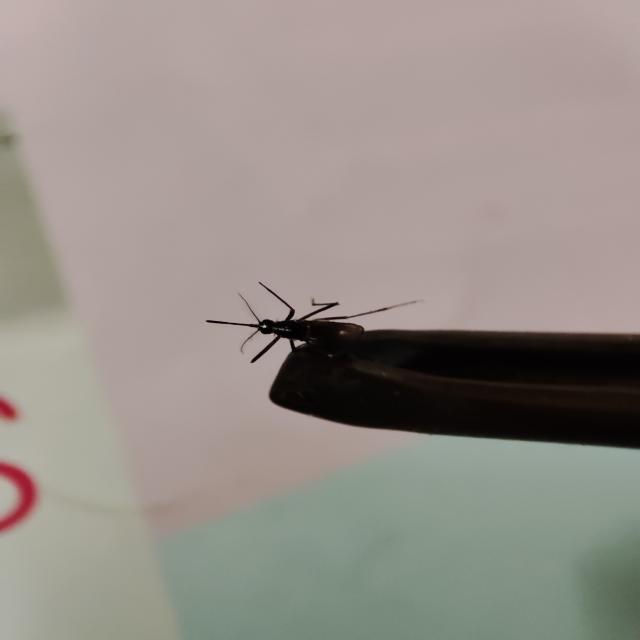albopictus: (194, 270, 440, 401)
